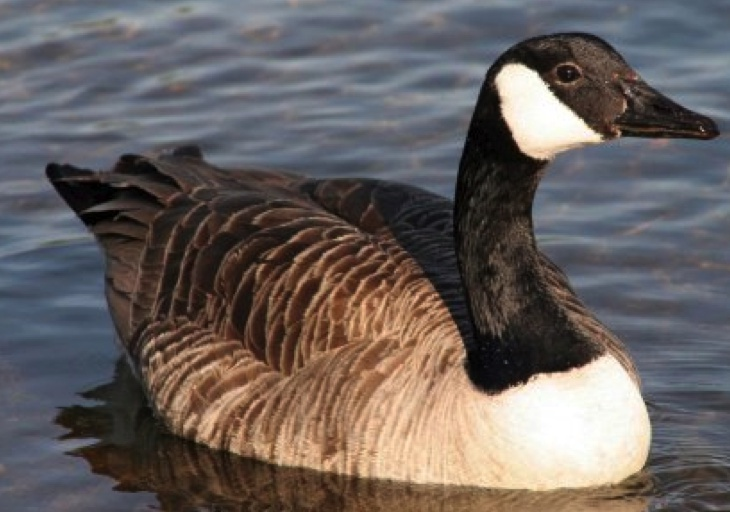goose: (40, 32, 729, 487)
